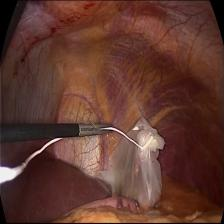Grasper: (80, 120, 114, 138)
Specimen Bag: (108, 114, 170, 210)
